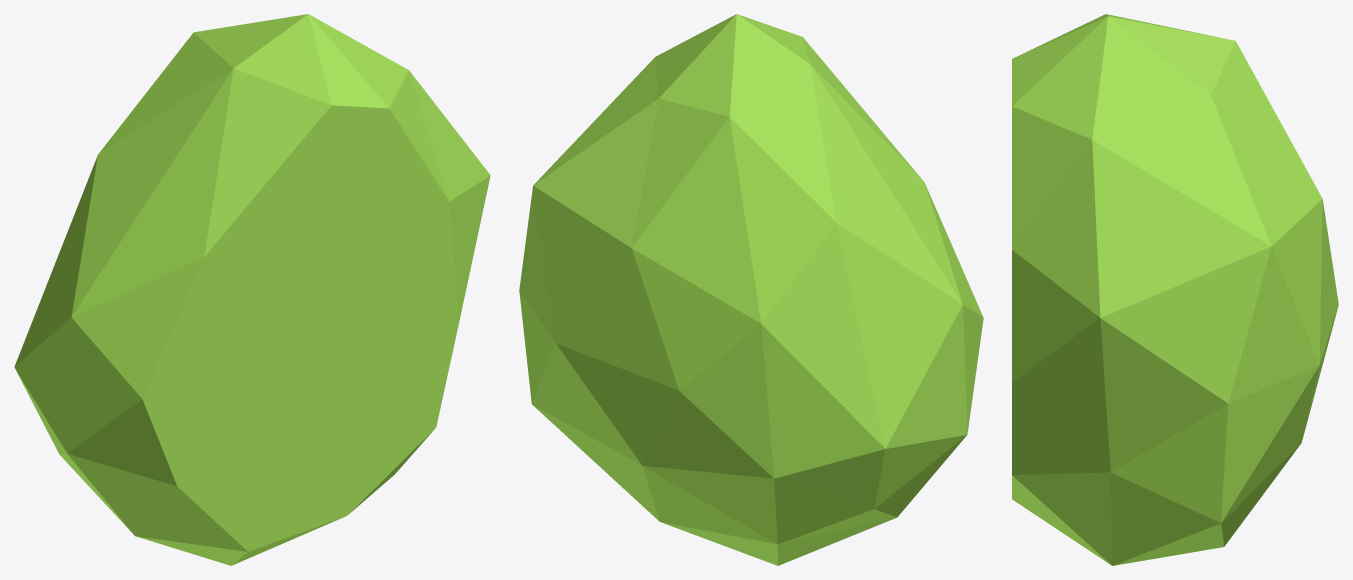
File: Bush_1.fbx
3 renders of one model, left to right at view 1: azimuth 30°, elevation 25°; view 2: azimuth 150°, elevation 25°; view 3: azimuth 270°, elevation 25°, orthographic. The views are drawn at different scales.
Visible parts, largest first — view 1: Bush_1; view 2: Bush_1; view 3: Bush_1.
Part boxes in pixels (x1,y1,x2,y2): Bush_1: [14, 14, 490, 565]; Bush_1: [519, 14, 983, 565]; Bush_1: [1012, 14, 1338, 565].
Bounding box in the file's own units: 144 × 181 × 93.18.
